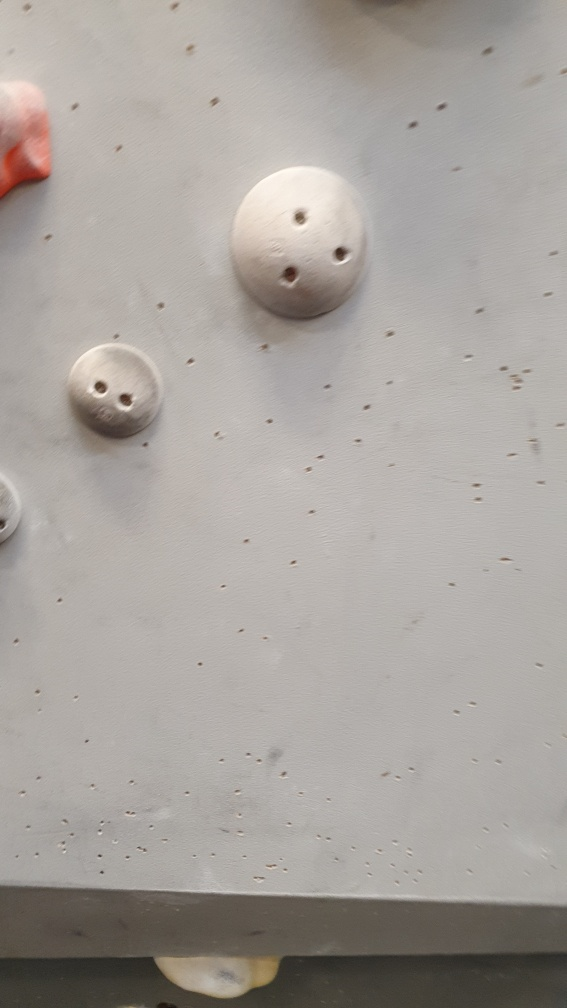Sloper: (230, 164, 368, 322), (61, 335, 171, 442)
